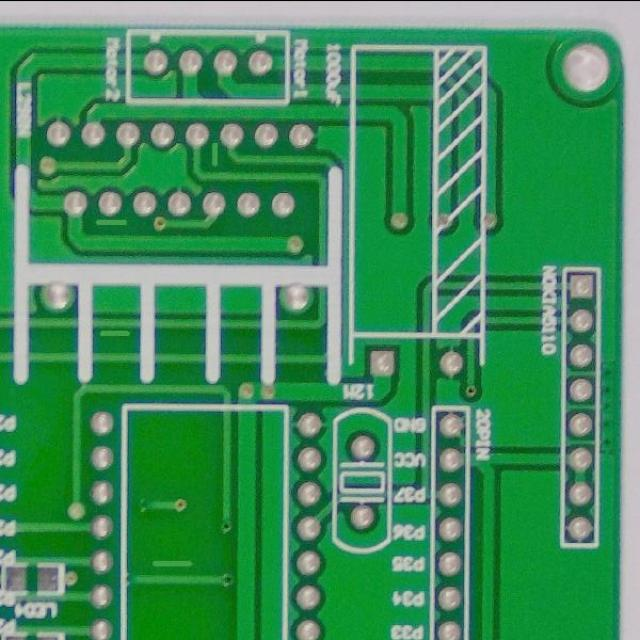Spurious_Cooper: (148, 556, 198, 570), (91, 213, 132, 230), (96, 326, 134, 341), (208, 135, 222, 172)
